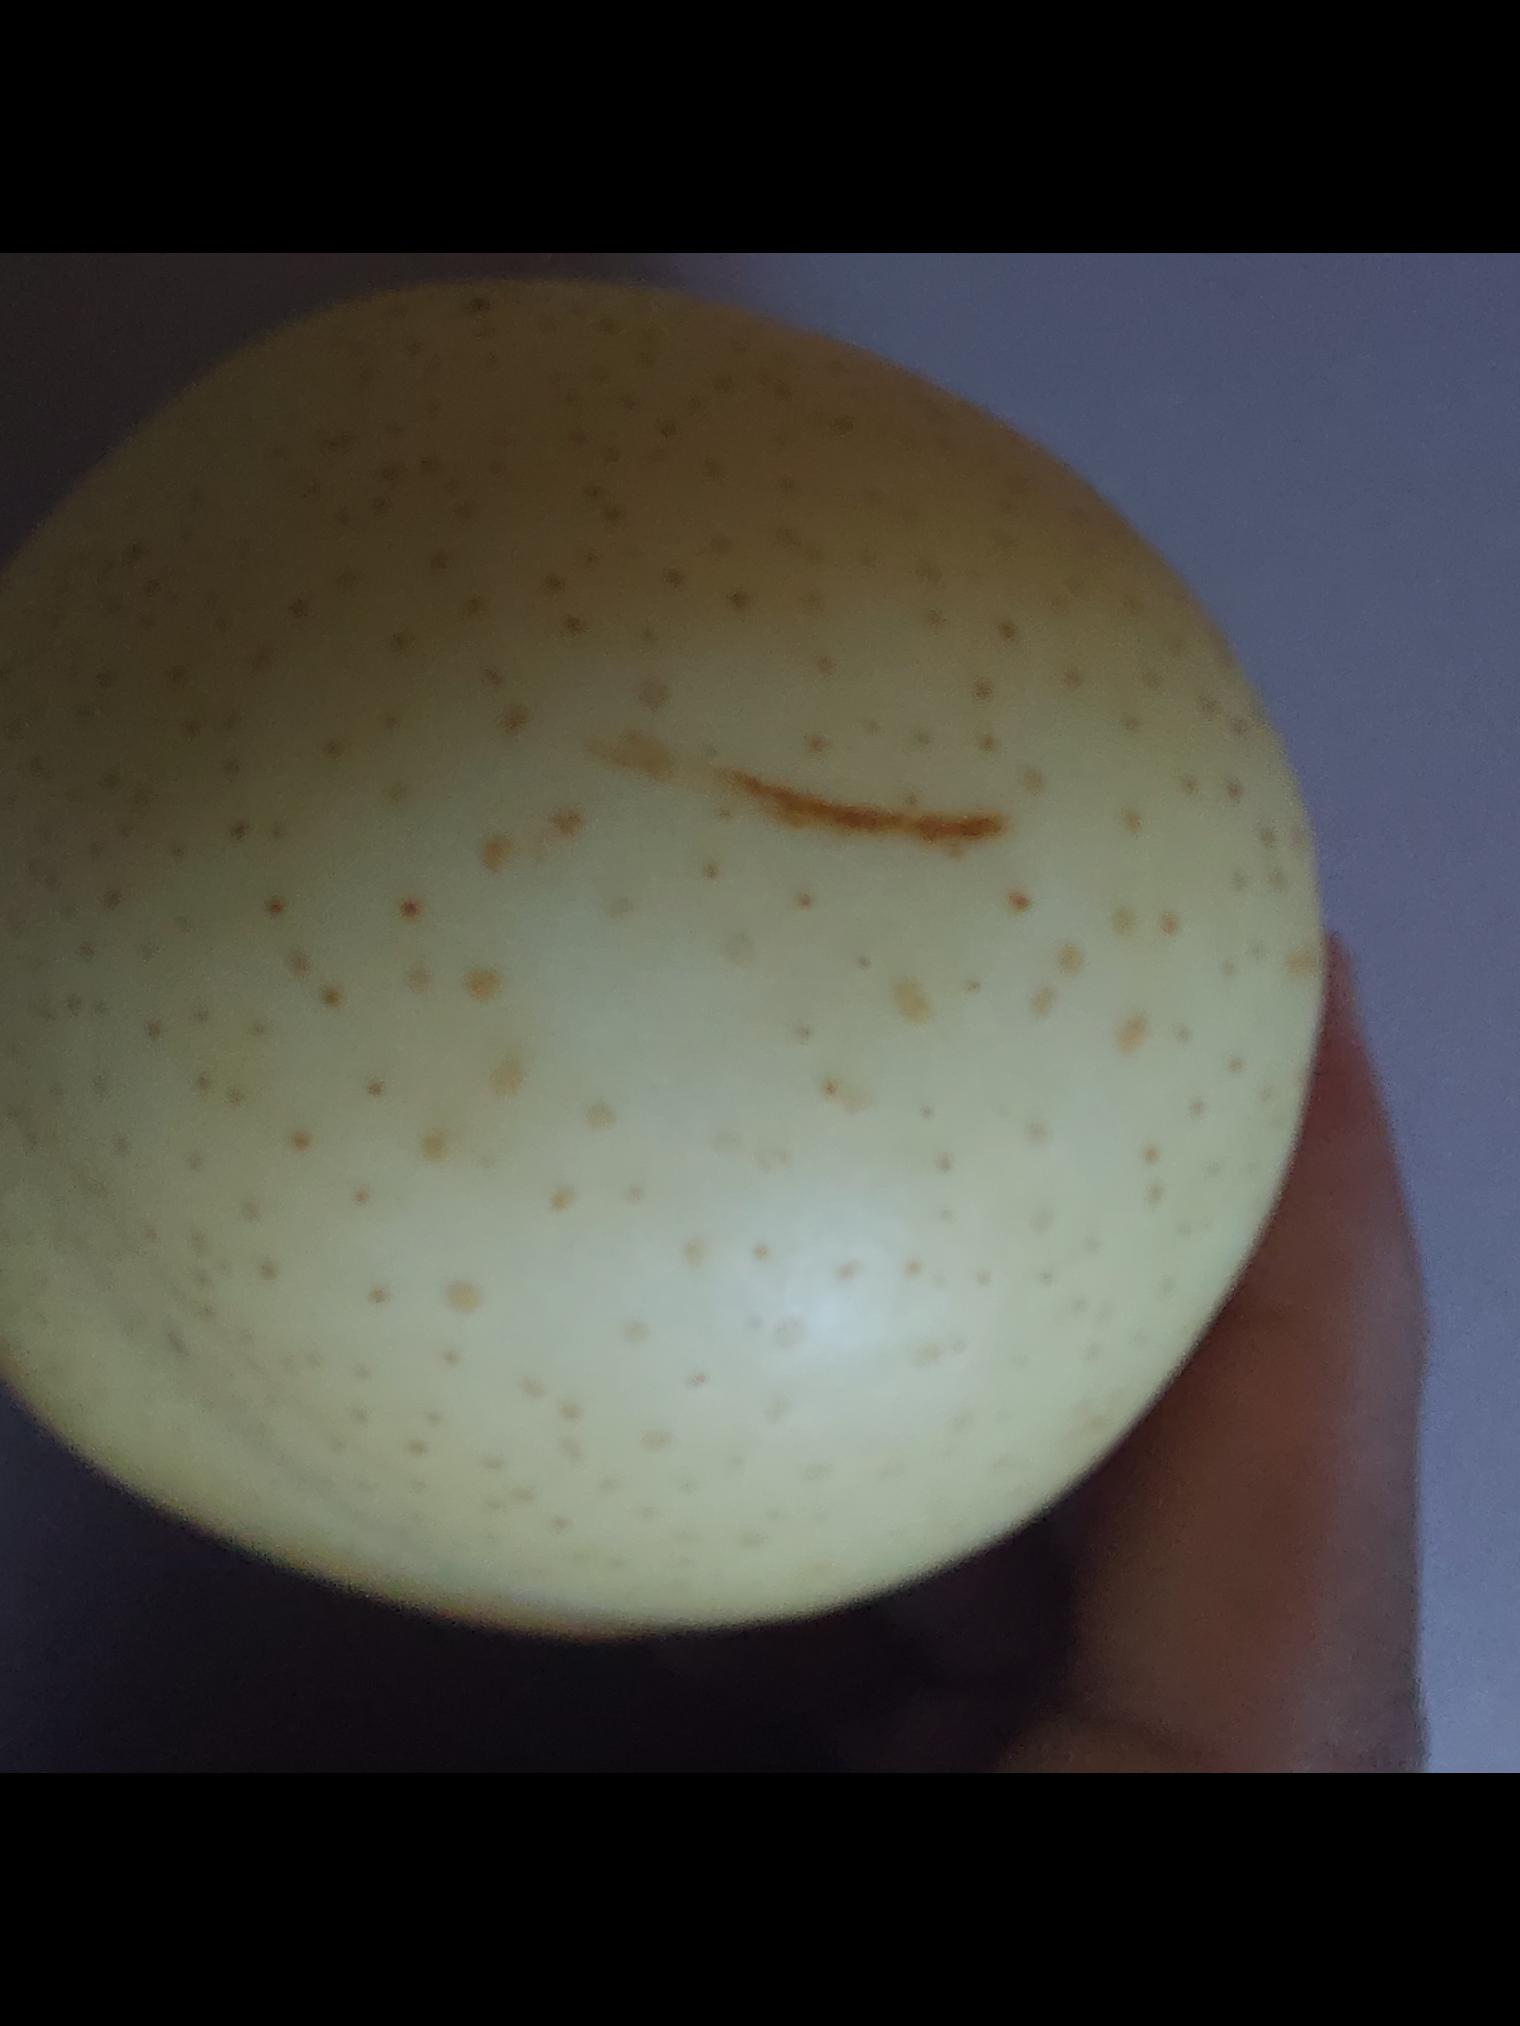Good Pear: (0, 252, 1332, 1656)
